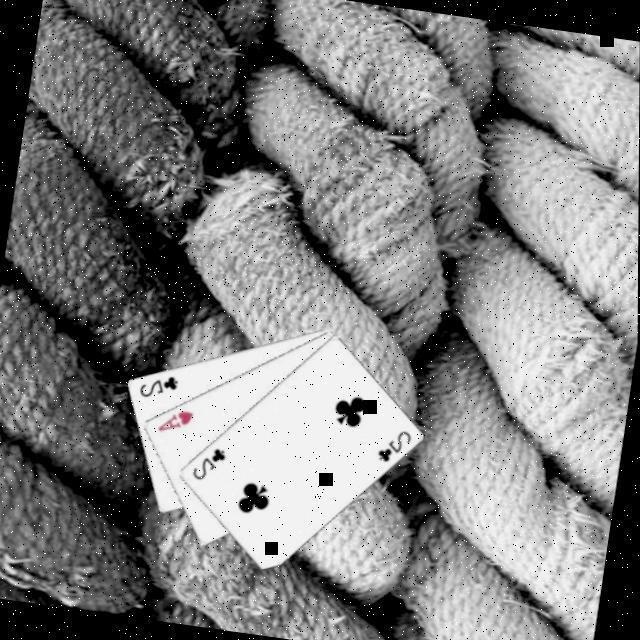2C: (372, 422, 414, 468), (188, 440, 228, 485), (134, 367, 182, 403)
AH: (152, 402, 196, 437)
